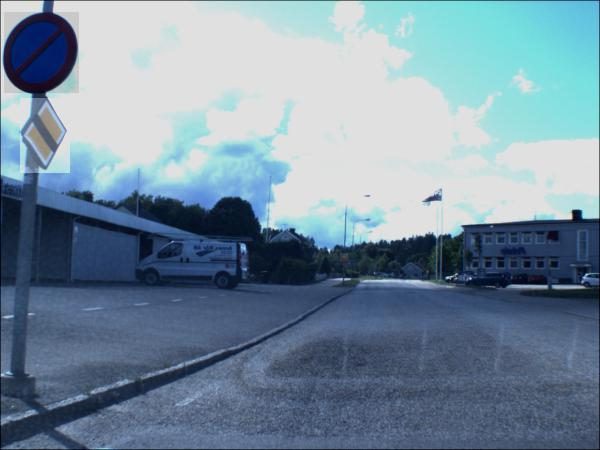NO_PARKING: (4, 13, 80, 95)
PRIORITY_ROAD: (20, 99, 71, 175)
WARNING: (340, 254, 349, 263)
